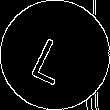L_NE: (30, 26, 80, 84)
